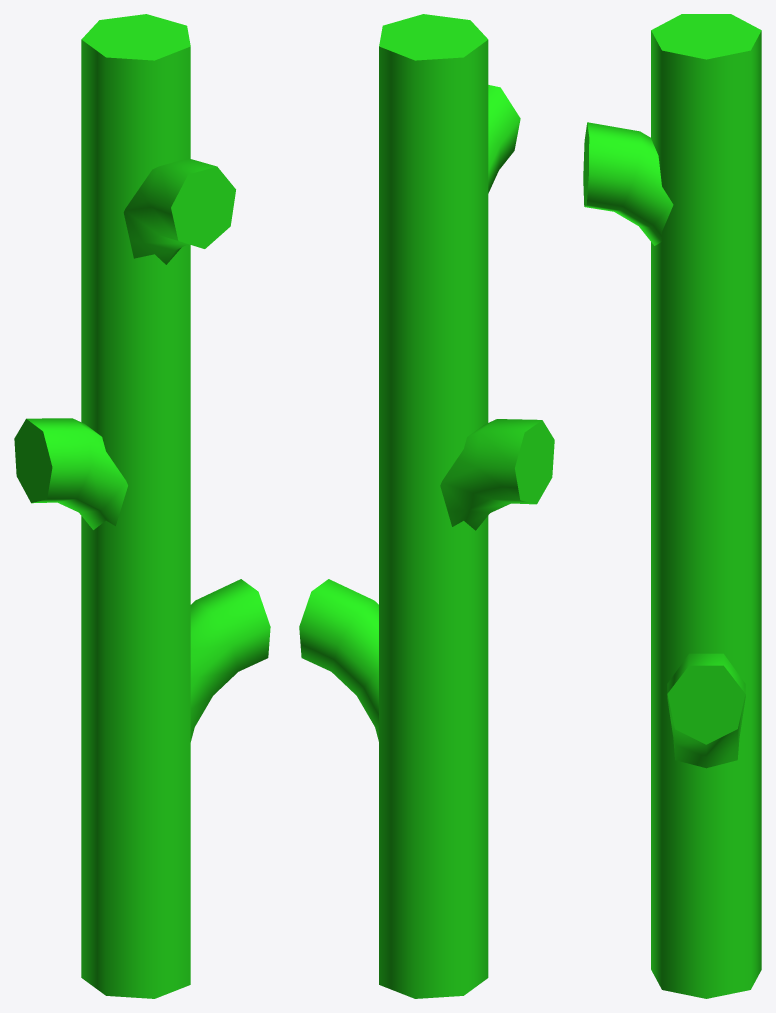
Rendered from PlantGrothPhaseFinal.FBX.
The picture shows the model from 3 angles, left to right: view 1: azimuth 30°, elevation 25°; view 2: azimuth 150°, elevation 25°; view 3: azimuth 270°, elevation 25°; orthographic projection.
Parts seen in each view (by area): view 1: phase 3; view 2: phase 3; view 3: phase 3.
Boxes of the visible parts, x1,y1,x2,y2 form: phase 3: [14, 14, 270, 998]; phase 3: [299, 14, 554, 998]; phase 3: [583, 14, 761, 998].
Size of the model in its own units: 20.79 by 84.25 by 14.51.
